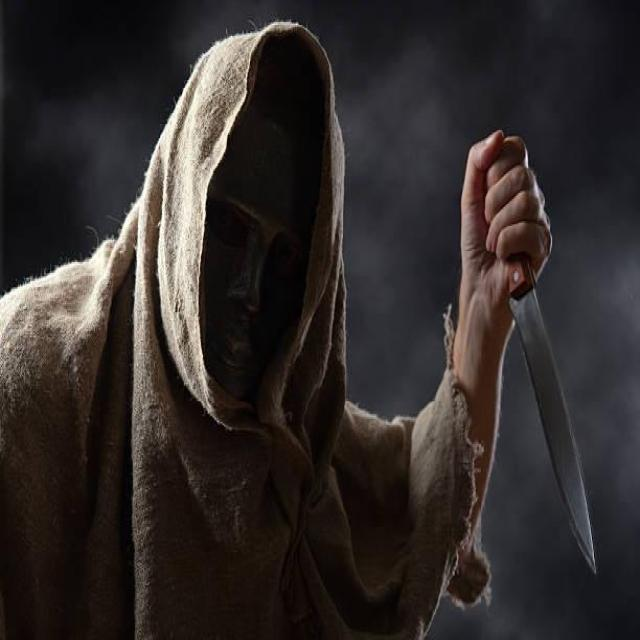faca: (454, 96, 606, 588)
